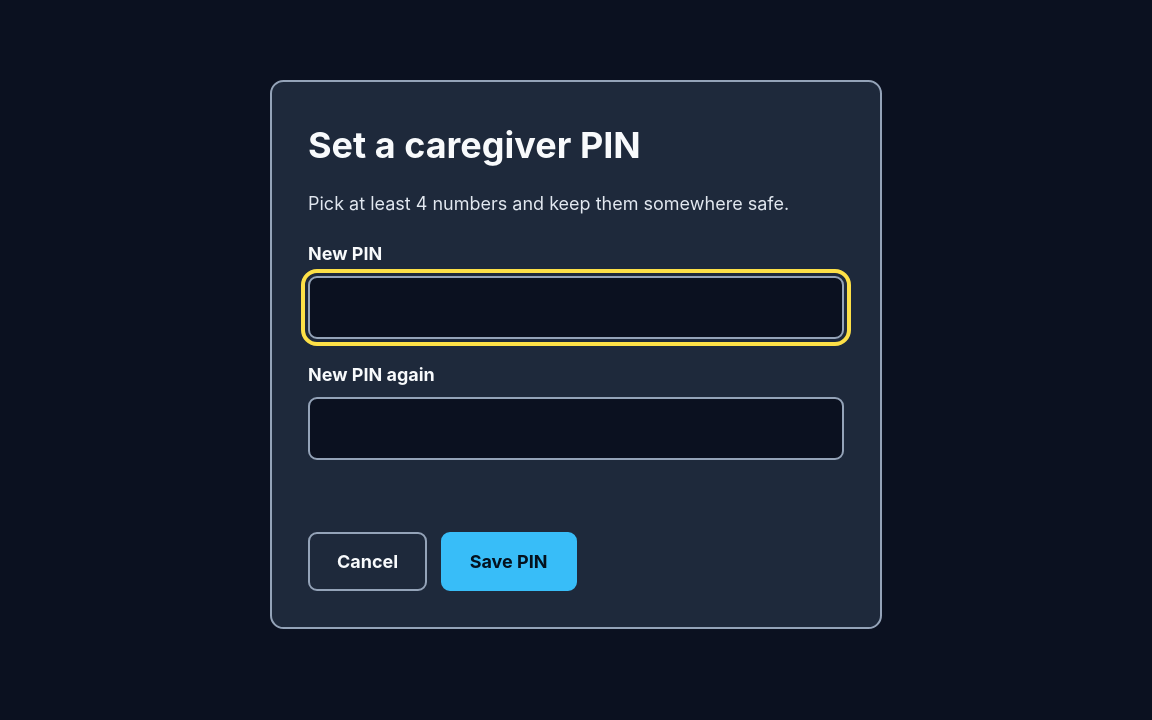
Test: PinScreen › requires both new PIN entries to match
This screenshot has width=1152, height=720.
Type "1234" into the password field labelled "New PIN".
click(576, 307); type("1234")  # box [308, 276, 844, 339]
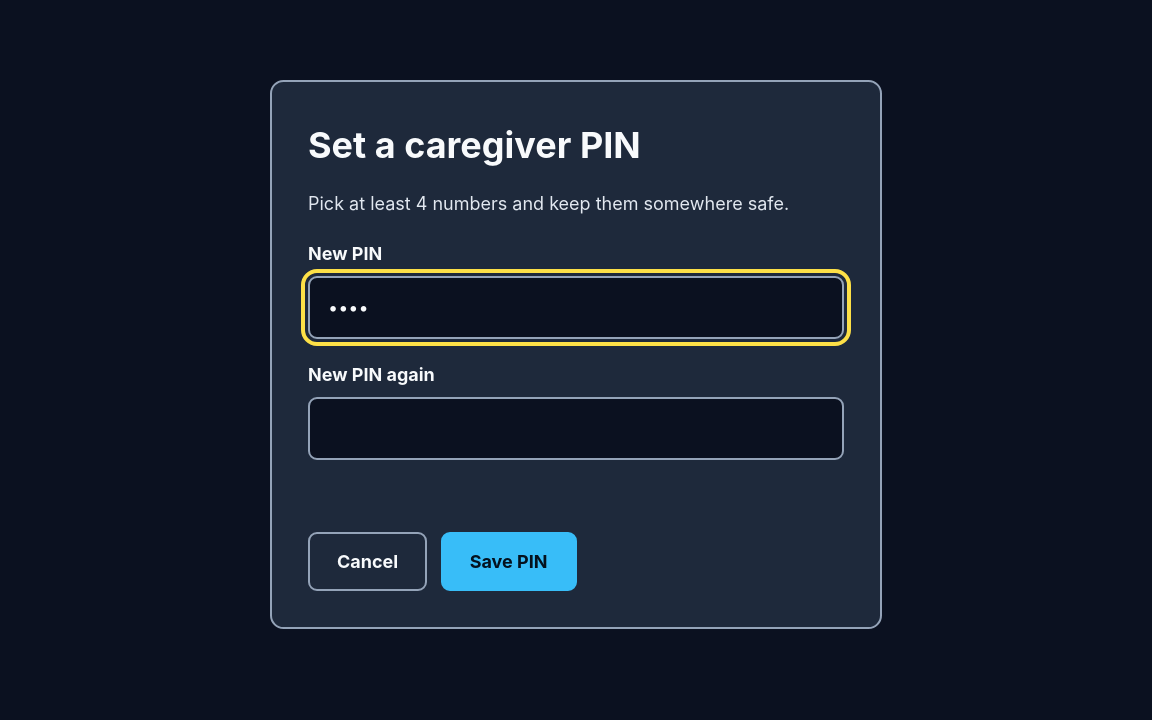
Type "5678" into the password field labelled "New PIN again".
click(576, 429); type("5678")  # box [308, 397, 844, 460]
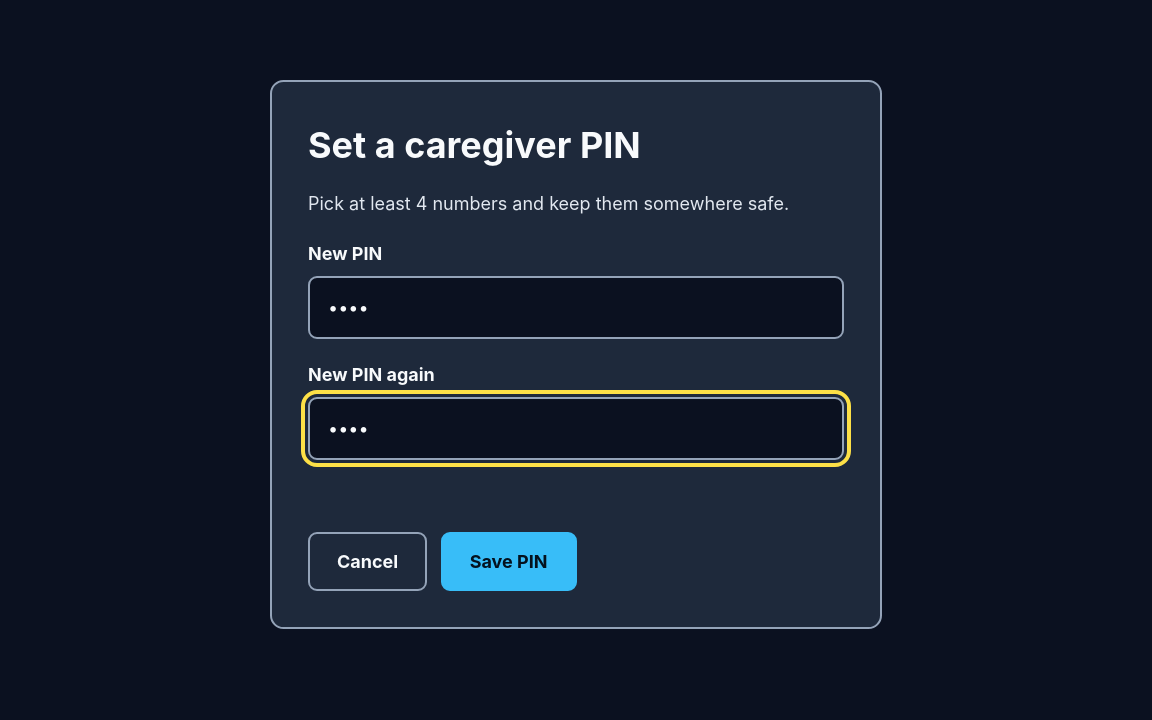
Click the button "Save PIN".
click(509, 561)  # box [441, 532, 576, 591]
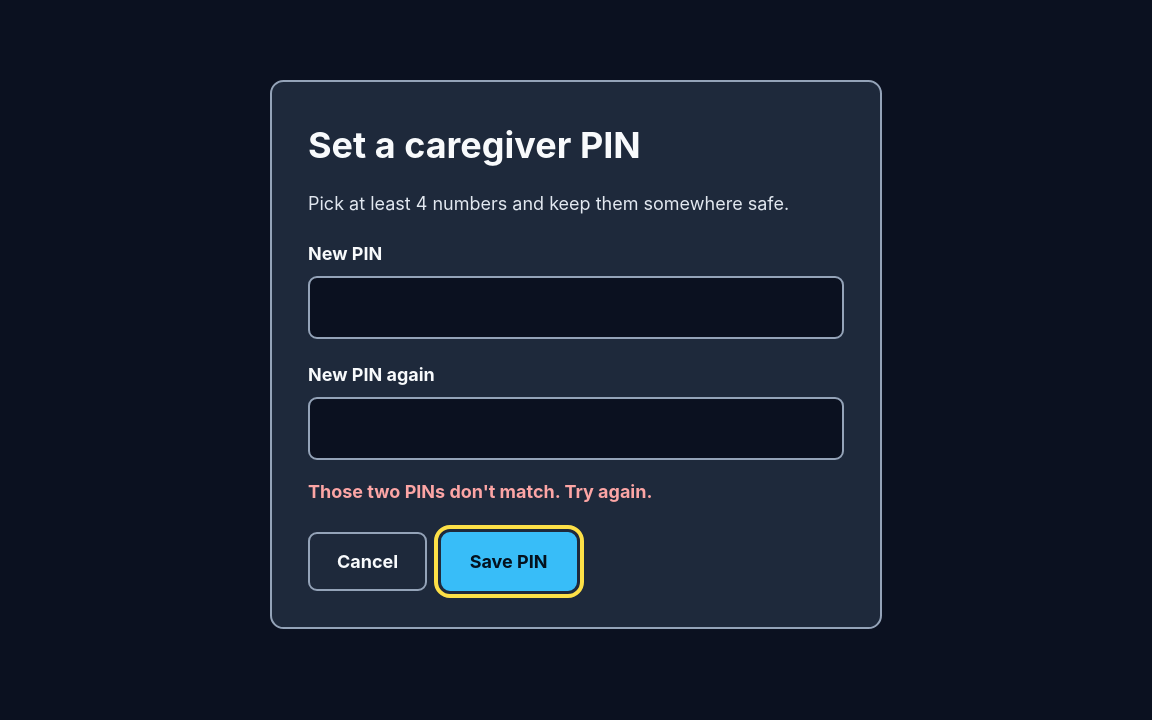
expect the message shows "don't match": met, box [308, 481, 652, 502]
